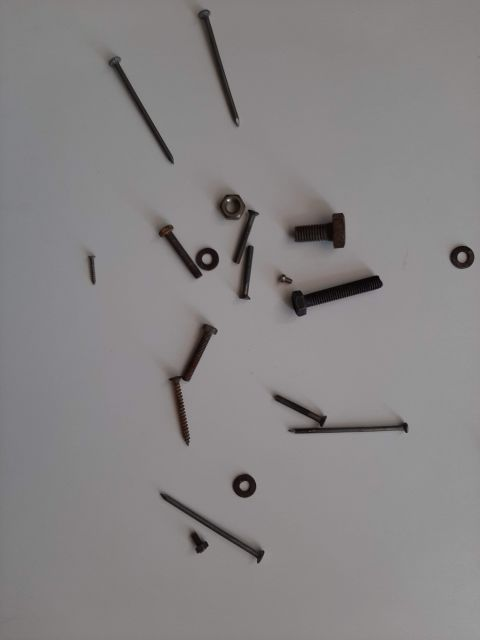gwozdz: (65, 35, 185, 175), (155, 475, 275, 565), (185, 5, 265, 125), (275, 415, 425, 445)
podkladka: (215, 445, 275, 505), (425, 235, 475, 275), (185, 245, 215, 275)
sruba: (155, 305, 235, 385), (135, 215, 215, 295), (275, 265, 395, 305), (215, 185, 265, 275), (215, 235, 265, 305), (275, 205, 355, 245), (265, 385, 325, 425)
